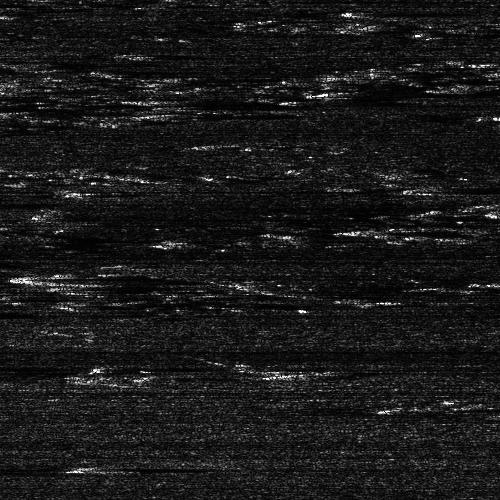rock: (0, 268, 83, 285), (114, 96, 187, 105), (385, 184, 458, 193), (456, 205, 500, 216), (326, 227, 399, 232), (54, 464, 107, 469), (336, 9, 389, 14), (108, 51, 161, 56), (484, 407, 500, 418)
shadow: (37, 268, 172, 285), (151, 96, 262, 105), (422, 184, 500, 193), (363, 9, 445, 14), (363, 227, 441, 232), (135, 51, 207, 56), (81, 464, 151, 469)
